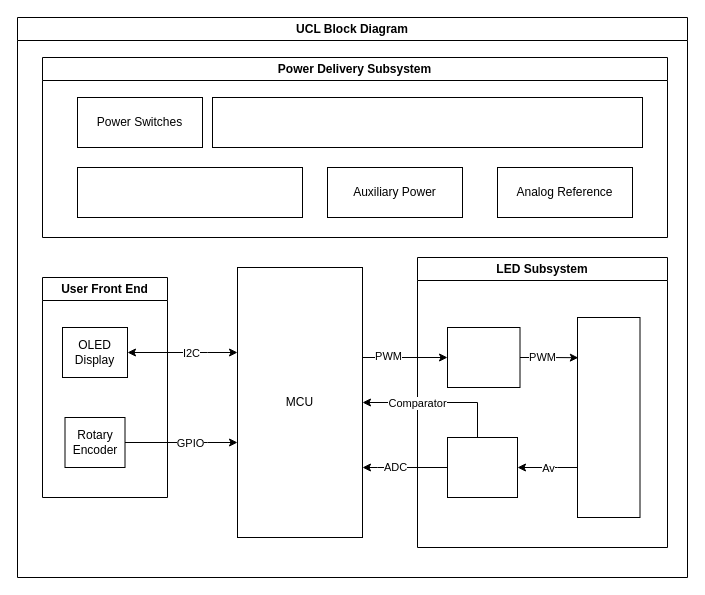
The diagram is 705 pixels wide and 595 high, and some of its shapes have lost their labels. The shapes that lost their labels are listed below. From the top down, each one's centre as x and y in pixels, then its label:
point 427,122: Power Mux
point 189,192: Digital Power
point 483,357: LED Controller
point 608,417: LEDs
point 482,467: Analog Front End
